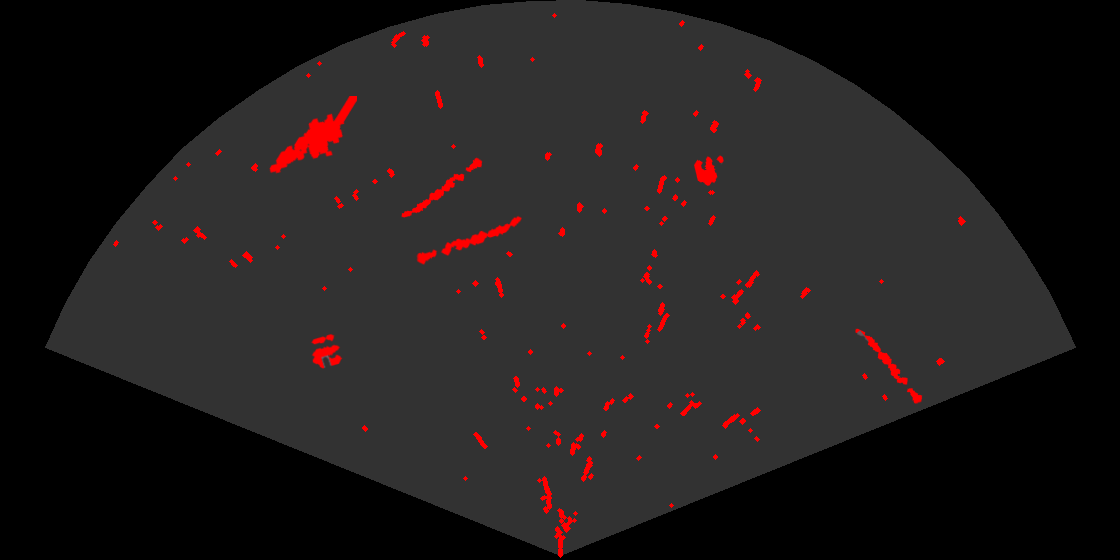ball: (309, 332, 344, 370), (692, 154, 725, 187)
chain: (415, 214, 523, 266), (854, 327, 924, 405), (400, 156, 484, 219)
frogman: (268, 96, 357, 175)
